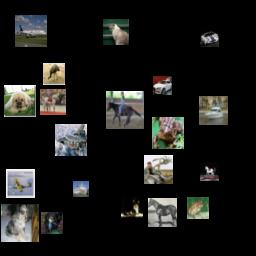airplane: (15, 15, 47, 47), (55, 124, 87, 156), (6, 169, 35, 198)
automobile: (153, 76, 172, 95), (200, 28, 219, 47)
bird: (41, 212, 63, 234), (43, 63, 65, 85)
cat: (103, 19, 129, 45), (121, 196, 143, 218)
deer: (144, 155, 173, 184)
dog: (1, 204, 39, 242), (4, 85, 36, 117)
frog: (152, 117, 184, 149), (187, 197, 209, 219)
ship: (199, 96, 228, 125), (73, 181, 89, 197)
